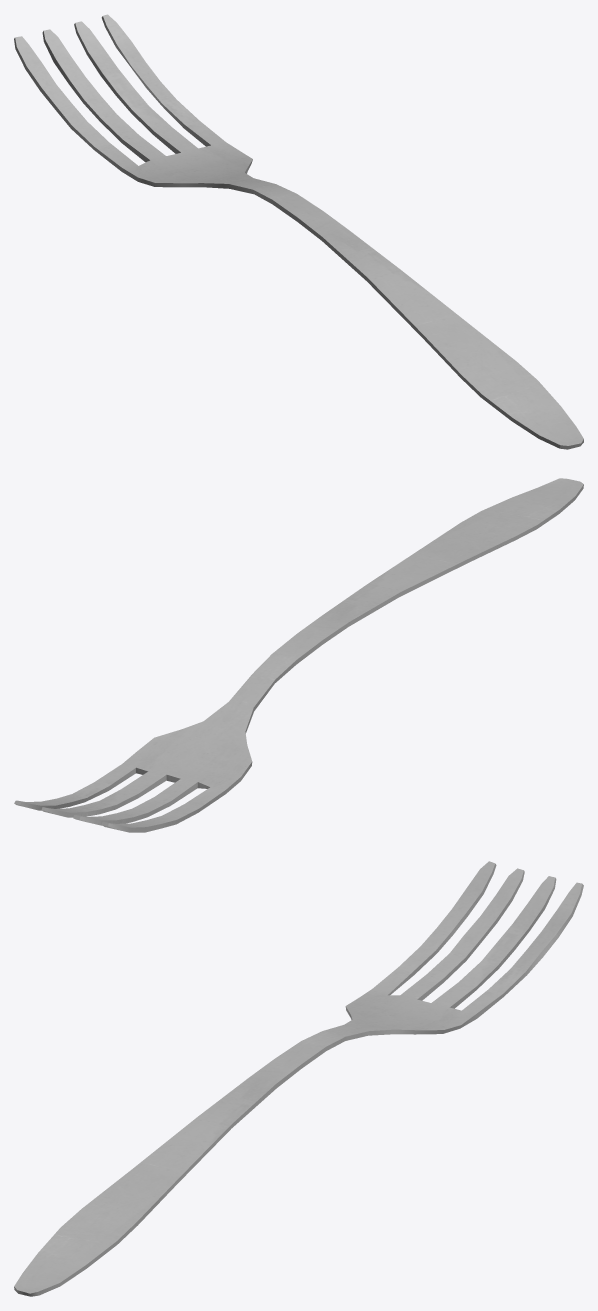
File: SM_Fork_A1.fbx
3 views of the same model, one above another, from view 1: azimuth 30°, elevation 25°; view 2: azimuth 150°, elevation 25°; view 3: azimuth 330°, elevation 25° (orthographic).
Parts seen in each view (by area): view 1: SM_Fork_A1; view 2: SM_Fork_A1; view 3: SM_Fork_A1.
Part boxes in pixels (x1,y1,x2,y2): SM_Fork_A1: (14,14,583,449); SM_Fork_A1: (14,478,583,832); SM_Fork_A1: (14,861,583,1296).
Size of the model in its own units: 2.17 by 18.16 by 1.02.
Materials: 1 (1 with a texture image).
